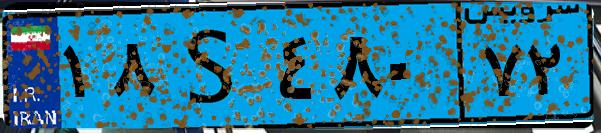0: (385, 28, 445, 110)
1: (57, 26, 110, 100)
2: (525, 38, 570, 115)
4: (270, 28, 330, 110)
7: (475, 38, 525, 113)
8: (330, 28, 385, 110), (110, 28, 158, 98)
S: (158, 12, 270, 120)
